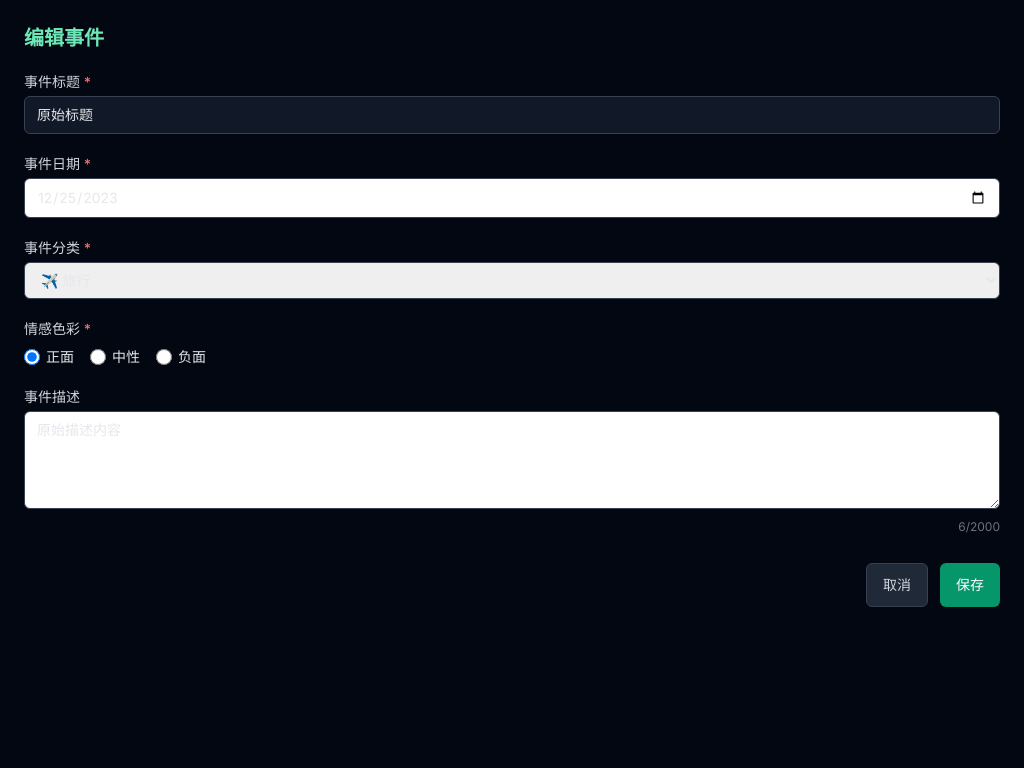
Test: EventForm › Edit mode › should detect dirty state when fields are changed in edit mode
Note: Change title
Replace the text in the field labelled "事件标题 *" with "修改后的标题" at (512, 115), box left=24, top=96, right=1000, bottom=134
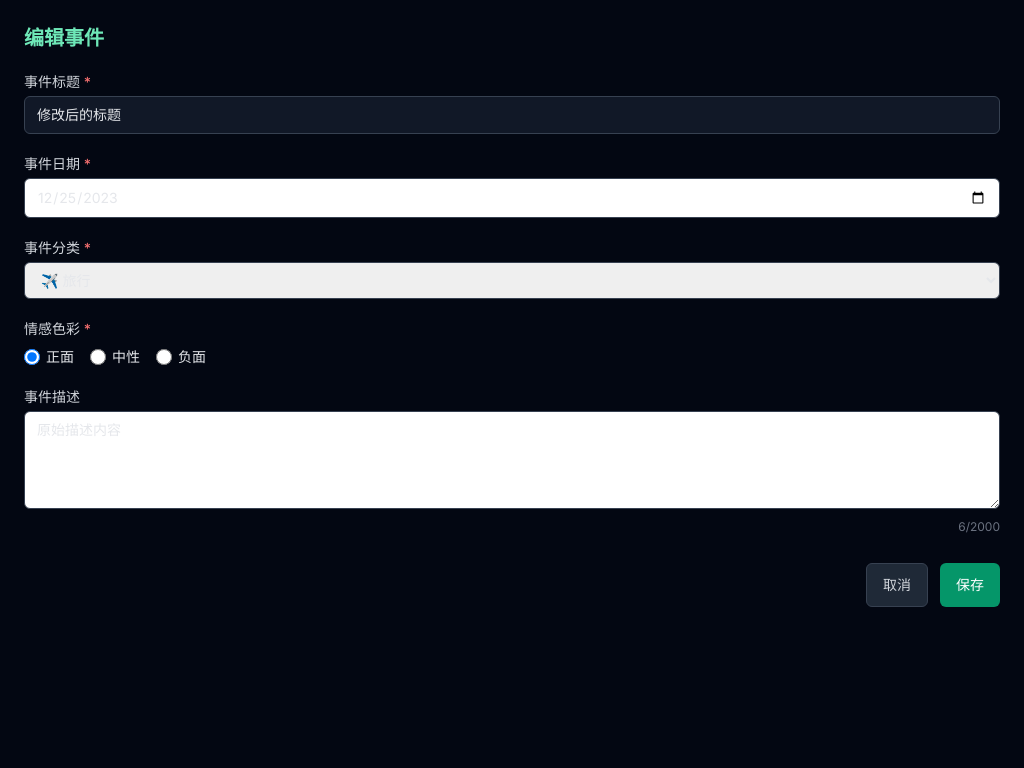
Note: Cancel should trigger confirm dialog
Click the button "取消" at (897, 585), box left=866, top=563, right=928, bottom=607
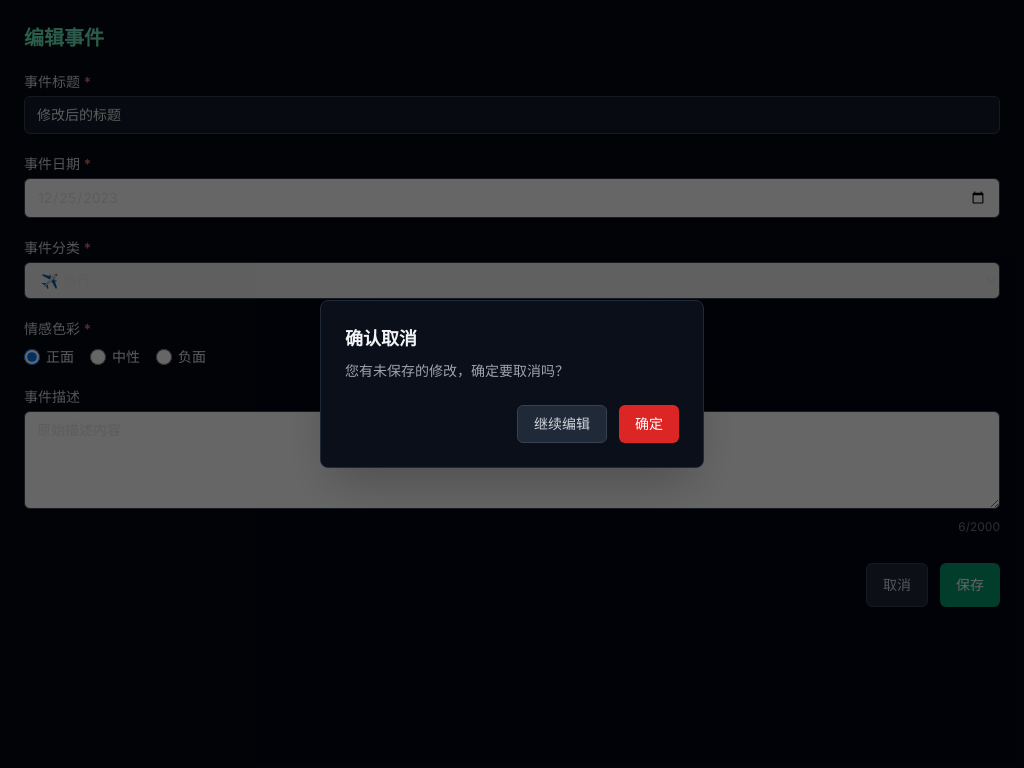
Now the dialog is shown, box left=320, top=300, right=704, bottom=468
